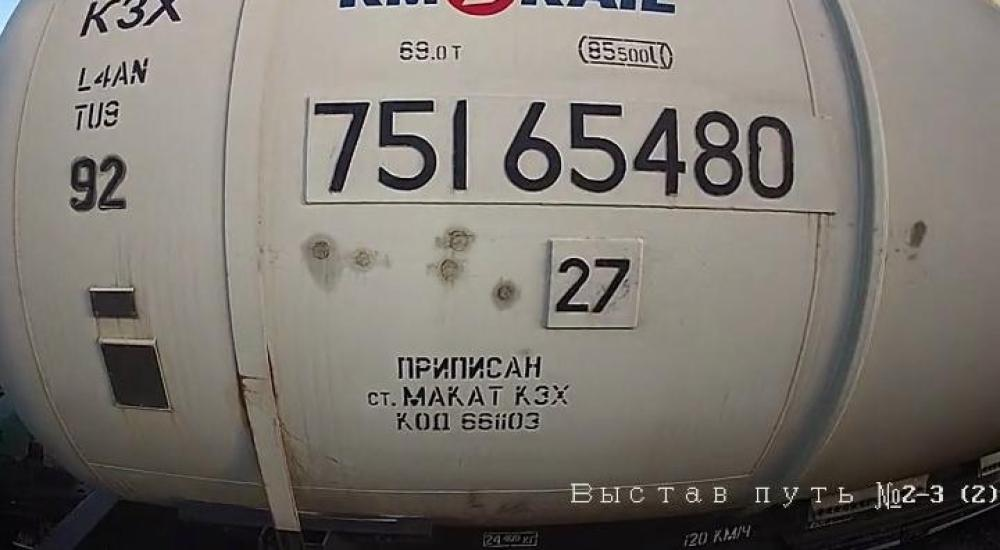Wagon-number: (308, 96, 797, 206)
